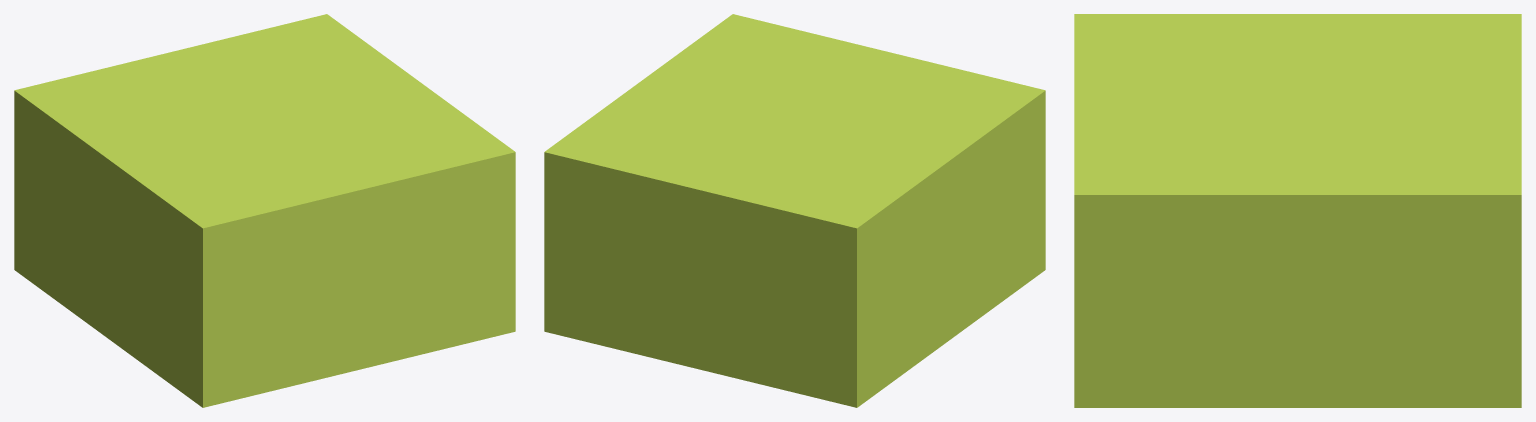
File: broadleaf_wskirt.DAE
The picture shows the model from 3 angles, left to right: view 1: azimuth 30°, elevation 25°; view 2: azimuth 150°, elevation 25°; view 3: azimuth 270°, elevation 25°; orthographic projection. The views are drawn at different scales.
Parts seen in each view (by area): view 1: bounds; view 2: bounds; view 3: bounds.
Boxes of the visible parts, x1,y1,x2,y2 form: bounds: (14, 14, 515, 407); bounds: (544, 14, 1045, 407); bounds: (1074, 14, 1521, 407).
Size of the model in its own units: 1.31 by 1.36 by 0.731.
